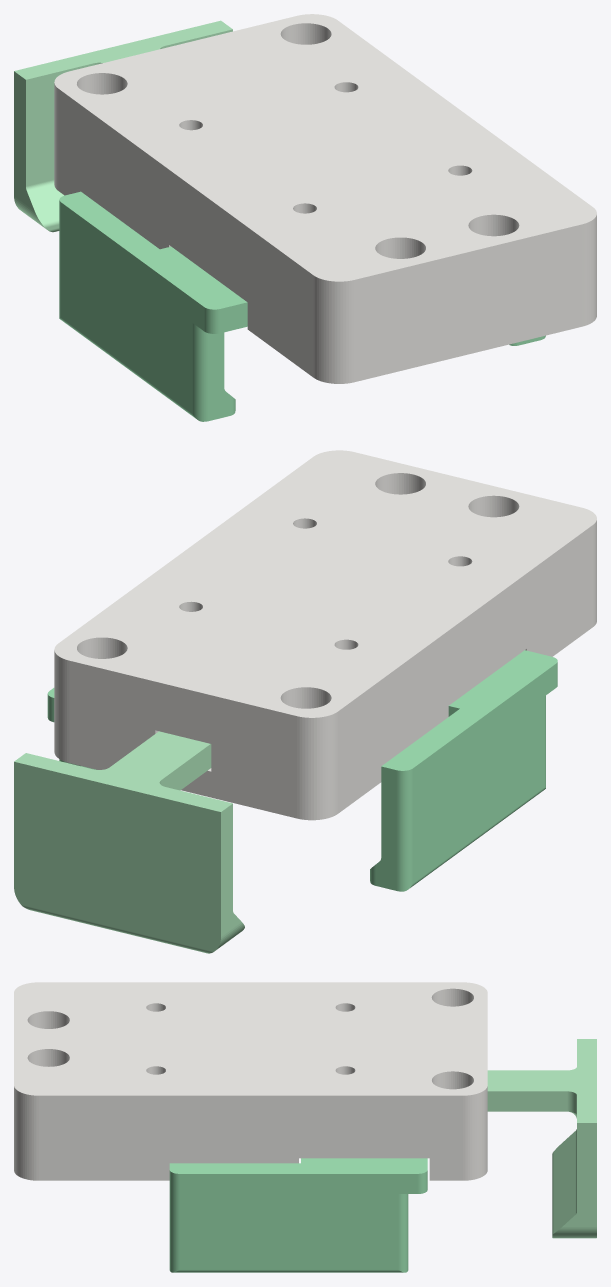
The model's file is preview_mech_closed.glb.
The picture shows the model from 3 angles, top to bottom: view 1: azimuth 30°, elevation 25°; view 2: azimuth 150°, elevation 25°; view 3: azimuth 270°, elevation 25°; orthographic projection. The views are drawn at different scales.
Parts seen in each view (by area): view 1: base, arm_l, foot; view 2: base, foot, arm_l; view 3: base, arm_r, foot.
Boxes of the visible parts, left/top/right/bottom form: base: left=54, top=14, right=596, bottom=383; arm_l: left=59, top=191, right=247, bottom=421; foot: left=14, top=20, right=232, bottom=232; base: left=54, top=450, right=596, bottom=820; foot: left=14, top=731, right=244, bottom=953; arm_l: left=370, top=650, right=557, bottom=891; base: left=14, top=982, right=487, bottom=1180; arm_r: left=169, top=1158, right=427, bottom=1272; foot: left=487, top=1039, right=596, bottom=1238.
Size of the model in its own units: 68 by 36.4 by 117.
